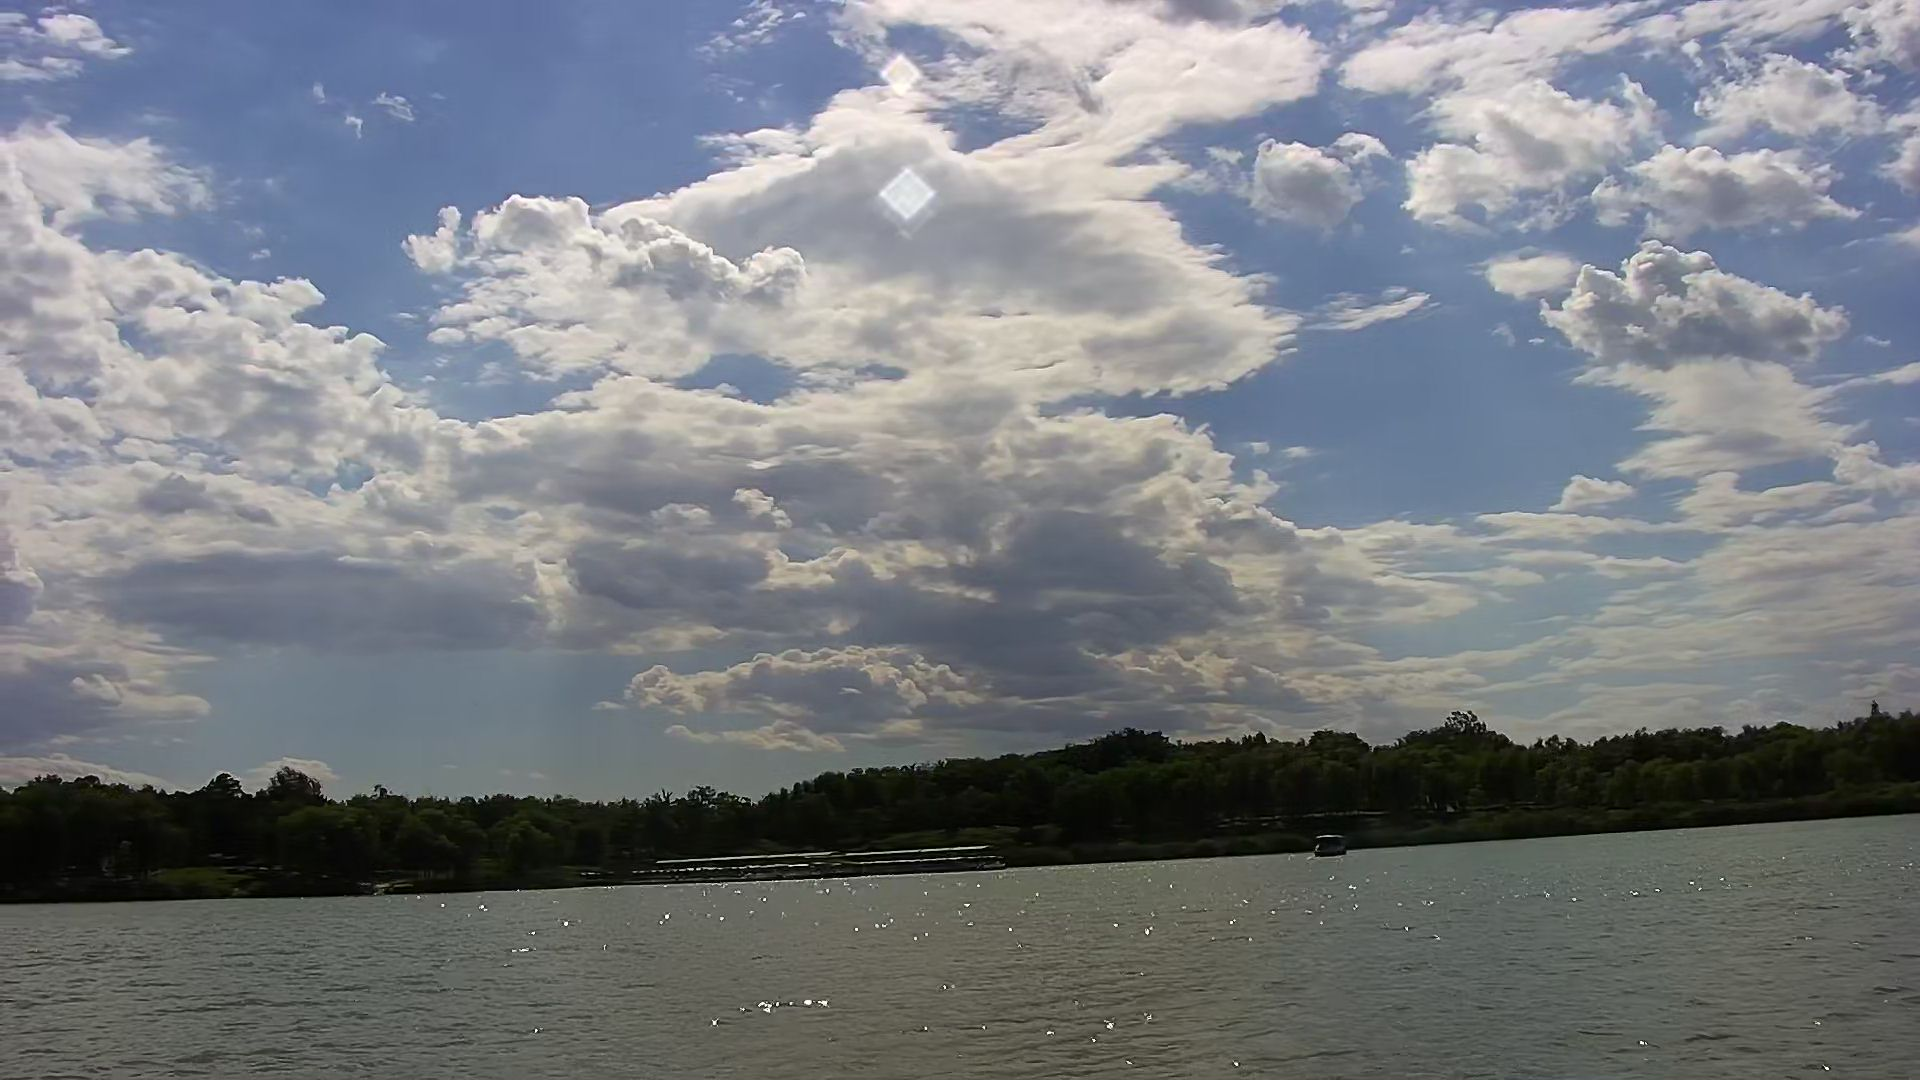boat: (1309, 828, 1354, 862)
harbor: (637, 843, 1006, 881)
